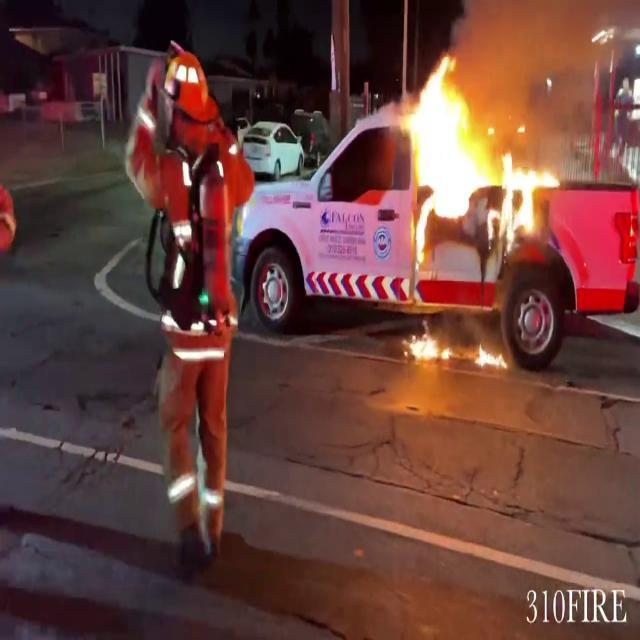Fire: (398, 47, 554, 266), (401, 323, 453, 365)
